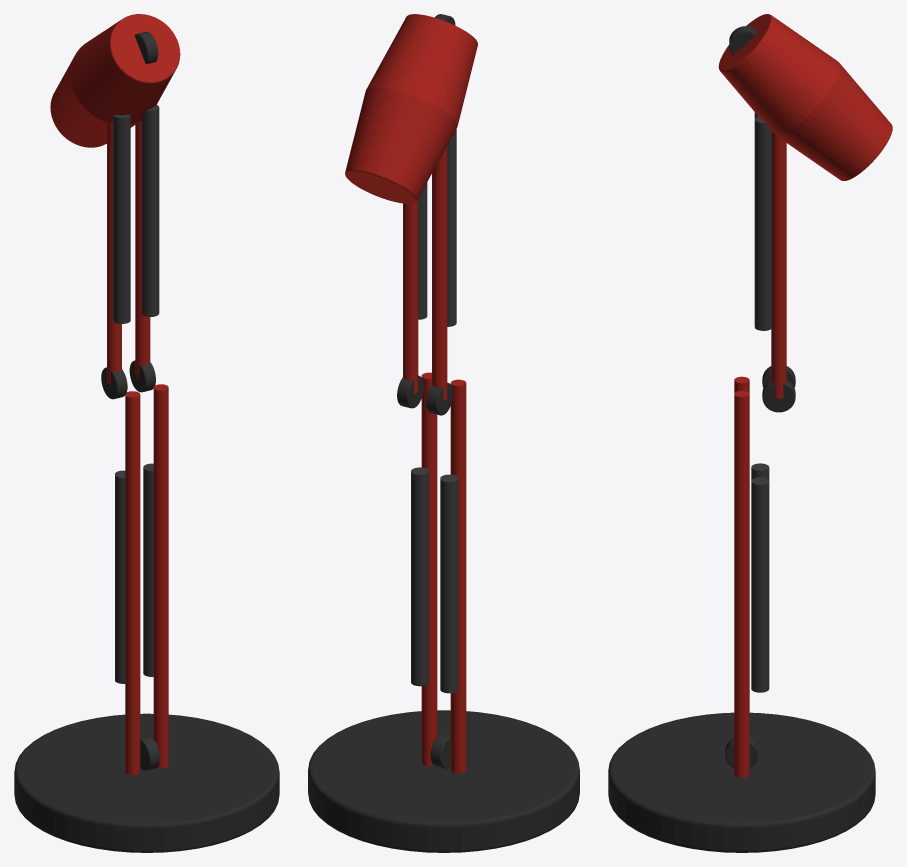
The model's file is Anglepoise_task_lamp.glb.
The picture shows the model from 3 angles, left to right: view 1: azimuth 30°, elevation 25°; view 2: azimuth 150°, elevation 25°; view 3: azimuth 270°, elevation 25°; orthographic projection. The views are drawn at different scales.
Parts seen in each view (by area): view 1: base, shade, arm.lower_1, arm.lower_2, spring.upper_2, spring.upper_1, spring.lower_1, spring.lower_2, arm.upper_2, arm.upper_1, pivot.elbow_2, pivot.elbow_1 (+2 smaller); view 2: base, shade, arm.lower_1, arm.lower_2, spring.lower_1, spring.lower_2, arm.upper_1, arm.upper_2, spring.upper_1, spring.upper_2, pivot.elbow_1, pivot.elbow_2 (+1 smaller); view 3: base, shade, arm.lower_2, spring.lower_2, arm.upper_2, spring.upper_2, pivot.elbow_2.
Part boxes in pixels (box(x1,y1,x2,y2)): base: box(14, 713, 279, 852); shade: box(50, 14, 180, 147); arm.lower_1: box(125, 391, 140, 774); arm.lower_2: box(153, 384, 168, 768); spring.upper_2: box(141, 104, 159, 316); spring.upper_1: box(113, 114, 130, 323); spring.lower_1: box(115, 470, 125, 683); spring.lower_2: box(143, 463, 153, 676); arm.upper_2: box(135, 121, 150, 377); arm.upper_1: box(107, 122, 121, 384); pivot.elbow_2: box(129, 360, 155, 392); pivot.elbow_1: box(101, 367, 127, 399); base: box(308, 710, 579, 852); shade: box(345, 14, 477, 203); arm.lower_1: box(450, 379, 466, 773); arm.lower_2: box(421, 372, 437, 765); spring.lower_1: box(440, 474, 458, 693); spring.lower_2: box(411, 467, 428, 686); arm.upper_1: box(432, 146, 447, 400); arm.upper_2: box(403, 199, 418, 393); spring.upper_1: box(447, 129, 456, 326); spring.upper_2: box(418, 182, 427, 319); pivot.elbow_1: box(426, 382, 453, 415); pivot.elbow_2: box(397, 375, 423, 408); base: box(608, 712, 875, 852); shade: box(718, 14, 892, 180); arm.lower_2: box(734, 390, 749, 777); spring.lower_2: box(751, 477, 769, 692); arm.upper_2: box(771, 131, 786, 398); spring.upper_2: box(754, 116, 771, 330); pivot.elbow_2: box(762, 380, 795, 412).
Size of the model in its own units: 0.21 by 0.675 by 0.2234.
